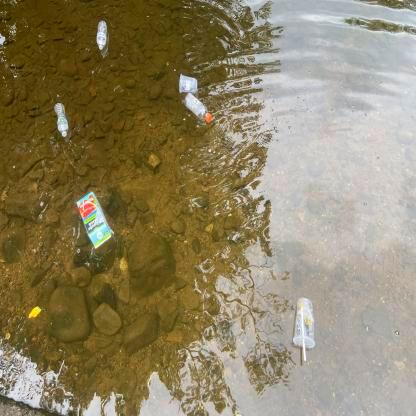Plastic: (289, 294, 320, 366), (178, 89, 215, 125), (52, 100, 72, 142), (175, 72, 204, 97), (95, 16, 112, 52)
